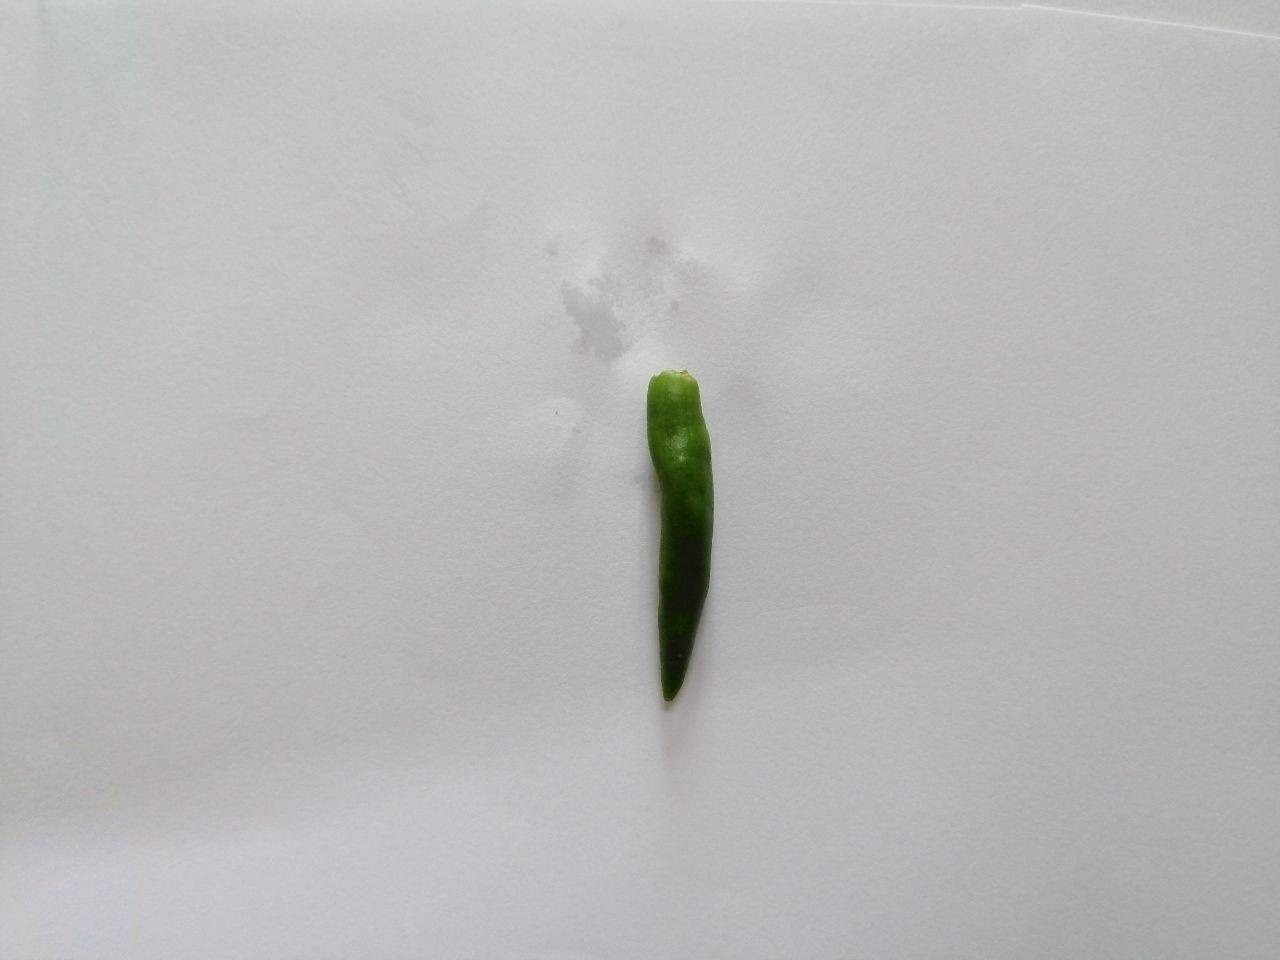lada hijau: (624, 350, 741, 715)
